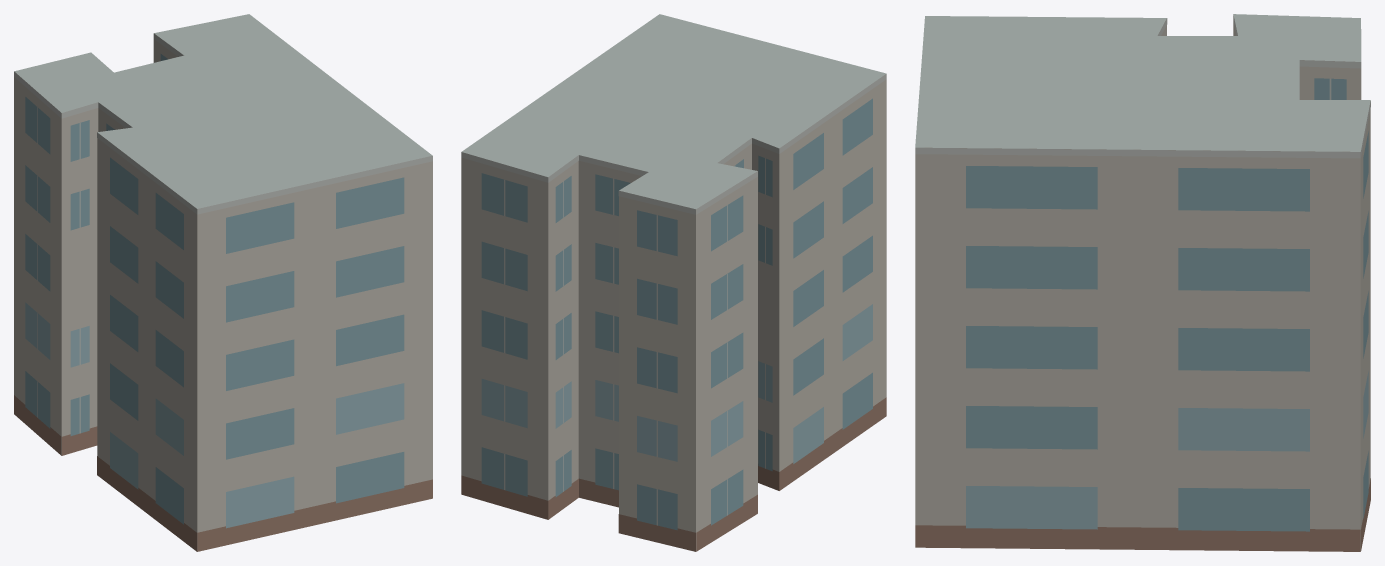
Rendered from survey-upis-32641947.glb.
The picture shows the model from 3 angles, left to right: view 1: azimuth 30°, elevation 25°; view 2: azimuth 150°, elevation 25°; view 3: azimuth 270°, elevation 25°; orthographic projection. The views are drawn at different scales.
Visible parts, largest first — view 1: survey-upis-32641947.tmp; view 2: survey-upis-32641947.tmp; view 3: survey-upis-32641947.tmp.
Boxes of the visible parts, left/top/right/bottom form: survey-upis-32641947.tmp: left=14, top=14, right=432, bottom=551; survey-upis-32641947.tmp: left=461, top=14, right=886, bottom=551; survey-upis-32641947.tmp: left=915, top=14, right=1370, bottom=551.
Bounding box in the file's own units: 11.02 × 14.9 × 15.39.
